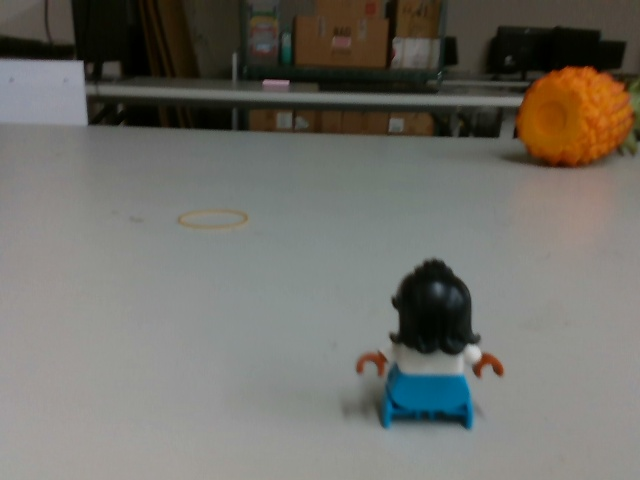people: (353, 249, 507, 437)
